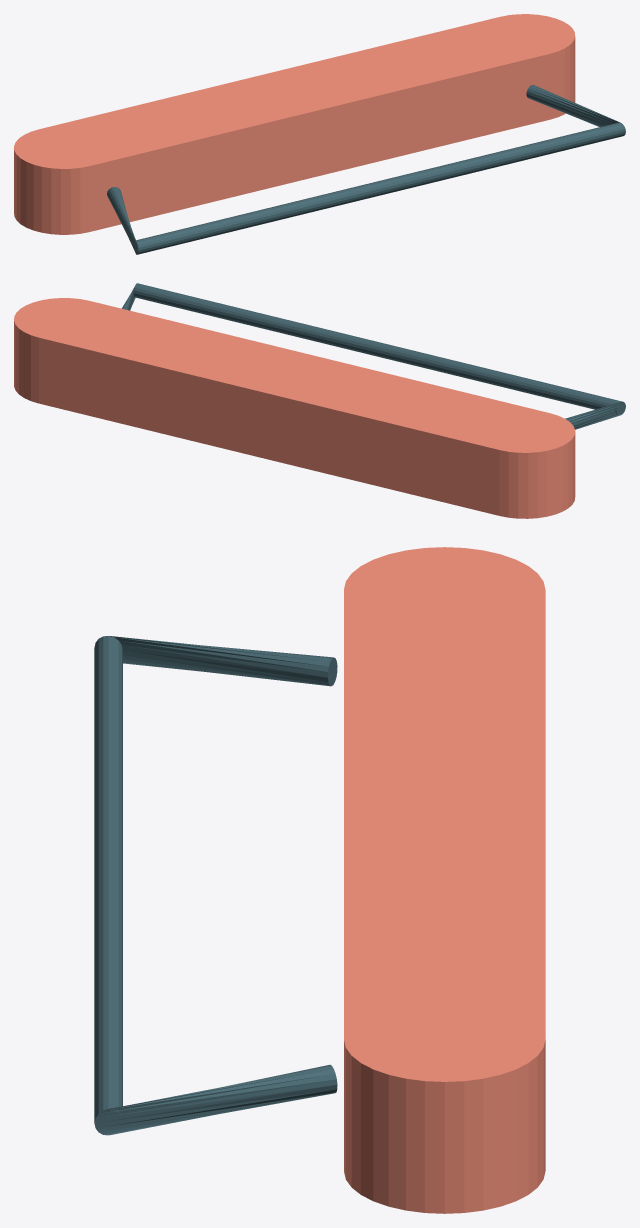
Rendered from waterpark-and-pool-operations-waterpark-and-pool-opera-7dc55ff8__28966.glb.
3 views of the same model, one above another, from view 1: azimuth 30°, elevation 25°; view 2: azimuth 150°, elevation 25°; view 3: azimuth 270°, elevation 25° (orthographic). The views are drawn at different scales.
Visible parts, largest first — view 1: waterpark-and-pool-operations-rescue-tube; view 2: waterpark-and-pool-operations-rescue-tube; view 3: waterpark-and-pool-operations-rescue-tube.
Boxes of the visible parts, bbox=[...] form: waterpark-and-pool-operations-rescue-tube: bbox=[14, 14, 625, 254]; waterpark-and-pool-operations-rescue-tube: bbox=[14, 283, 625, 518]; waterpark-and-pool-operations-rescue-tube: bbox=[94, 547, 545, 1213].
Bounding box in the file's own units: 1.13 × 0.1299 × 0.4027.
